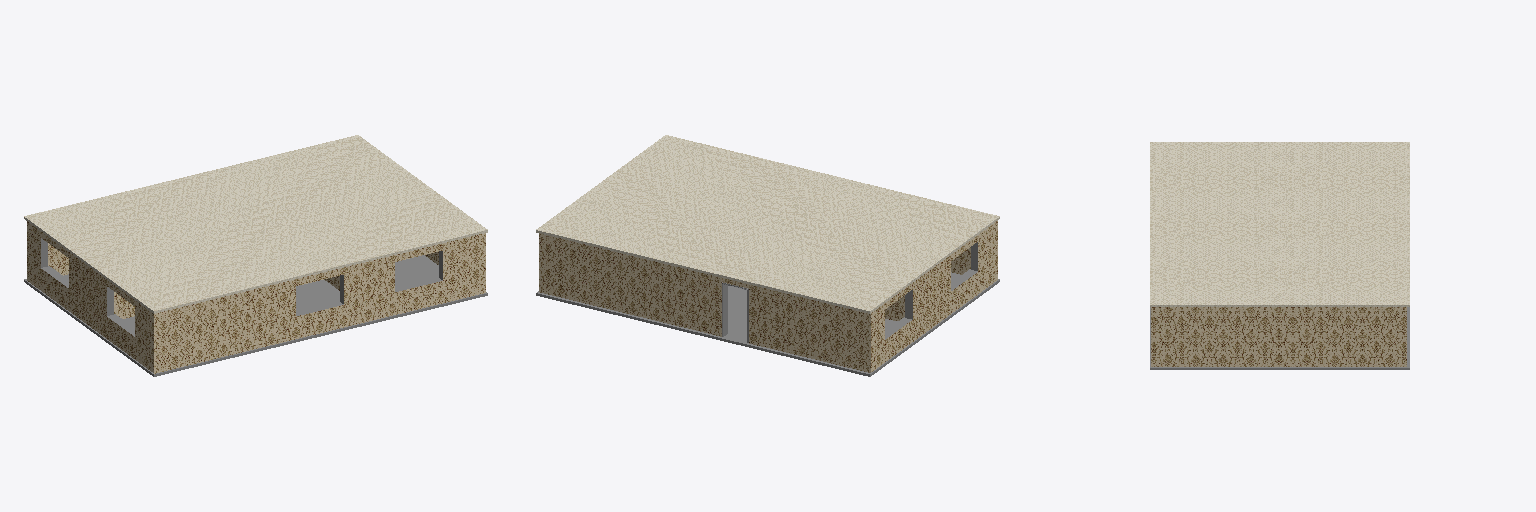
3 views of the same model, side by side, from view 1: azimuth 30°, elevation 25°; view 2: azimuth 150°, elevation 25°; view 3: azimuth 270°, elevation 25° (orthographic).
Visible parts, largest first — view 1: celling, Wall, floor; view 2: celling, Wall, floor; view 3: celling, Wall, floor.
Boxes of the visible parts, <box> form: celling: <box>24,135,487,313</box>; Wall: <box>27,221,485,373</box>; floor: <box>24,255,487,376</box>; celling: <box>536,135,999,313</box>; Wall: <box>539,221,997,372</box>; floor: <box>536,272,999,376</box>; celling: <box>1150,142,1409,306</box>; Wall: <box>1151,307,1406,366</box>; floor: <box>1150,307,1409,369</box>.
Size of the model in its own units: 13.88 by 2.61 by 9.35.
4 materials, 2 textured.